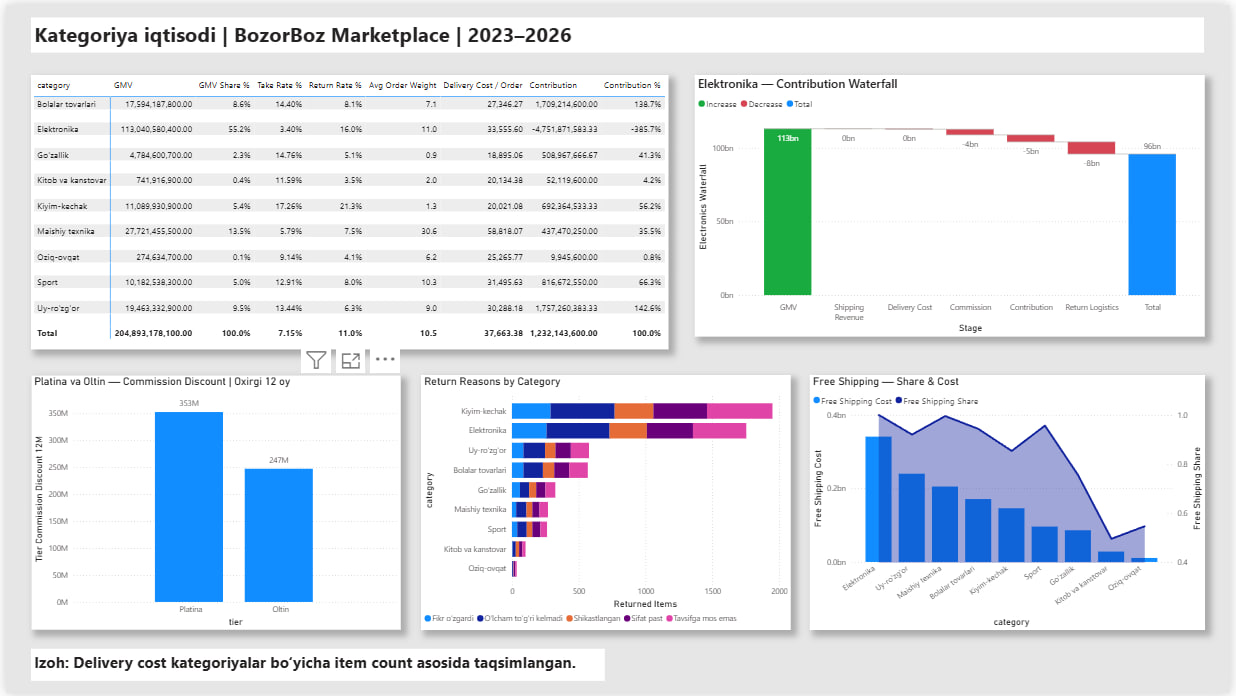

The dashboard page shown, as its layout file describes it:
{"tool":"powerbi","page":{"name":"Kategoriya iqtisodi","canvas":[1920,1080],"ordinal":1},"visuals":[{"type":"textbox","box":[40,20,1840,55],"z":0},{"type":"pivotTable","fields":{"Rows":["dim_product.category"],"Values":["BB_Measures.GMV","BB_Measures.GMV Share %","BB_Measures.Take Rate %","BB_Measures.Return Rate %","BB_Measures.Avg Order Weight","BB_Measures.Delivery Cost / Order","BB_Measures.Contribution","BB_Measures.Contribution %"]},"box":[40,110,1000,430],"z":1000},{"type":"waterfallChart","title":"Elektronika — Contribution Waterfall","fields":{"Category":["Waterfall Stage.Stage"],"Y":["BB_Measures.Electronics Waterfall"]},"box":[1080,110,800,410],"z":2000},{"type":"clusteredColumnChart","title":"Platina va Oltin — Commission Discount | Oxirgi 12 oy","fields":{"Category":["dim_seller.tier"],"Y":["BB_Measures.Tier Commission Discount 12M"]},"box":[40,580,580,400],"z":3000},{"type":"barChart","title":"Return Reasons by Category","fields":{"Category":["dim_product.category"],"Y":["BB_Measures.Returned Items"],"Series":["fact_return.reason"]},"box":[650,580,580,400],"z":4000},{"type":"lineClusteredColumnComboChart","title":"Free Shipping — Share & Cost","fields":{"Category":["dim_product.category"],"Y":["BB_Measures.Free Shipping Cost"],"Y2":["BB_Measures.Free Shipping Share"]},"box":[1260,580,620,400],"z":5000},{"type":"textbox","box":[40,1010,900,50],"z":5001}]}

Visuals, with their boxes in screenshot pixels (x1, y1, x2, y2), scaled from the page's 1920x1080 canvas onto the 1236x696 screenshot:
textbox: <bbox>26, 13, 1210, 48</bbox>
pivotTable - dim_product.category x BB_Measures.GMV: <bbox>26, 71, 670, 348</bbox>
"Elektronika — Contribution Waterfall" waterfallChart: <bbox>695, 71, 1210, 335</bbox>
"Platina va Oltin — Commission Discount | Oxirgi 12 oy" clusteredColumnChart: <bbox>26, 374, 399, 632</bbox>
"Return Reasons by Category" barChart: <bbox>418, 374, 792, 632</bbox>
"Free Shipping — Share & Cost" lineClusteredColumnComboChart: <bbox>811, 374, 1210, 632</bbox>
textbox: <bbox>26, 651, 605, 683</bbox>
